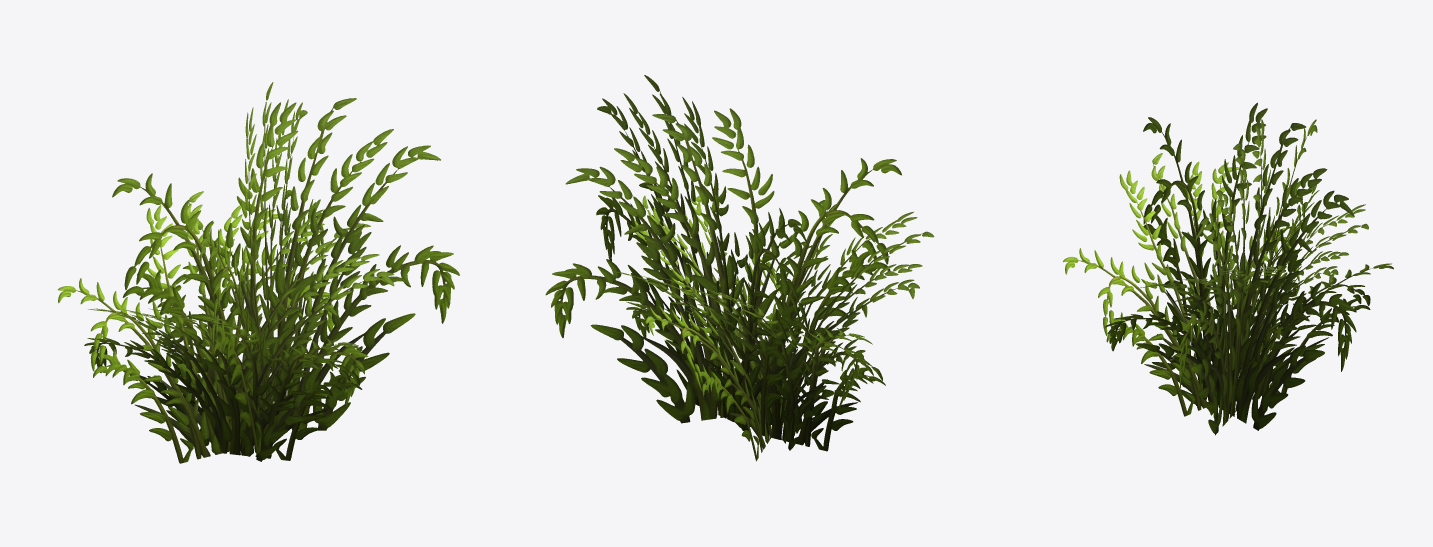
The model's file is PlantShrub.obj.
3 views of the same model, side by side, from view 1: azimuth 30°, elevation 25°; view 2: azimuth 150°, elevation 25°; view 3: azimuth 270°, elevation 25° (orthographic). The views are drawn at different scales.
Visible parts, largest first — view 1: Mesh; view 2: Mesh; view 3: Mesh.
Part boxes in pixels (x1,y1,x2,y2): Mesh: (57, 82, 459, 463); Mesh: (545, 75, 934, 461); Mesh: (1063, 102, 1393, 435).
Size of the model in its own units: 2.52 by 2.22 by 2.15.
